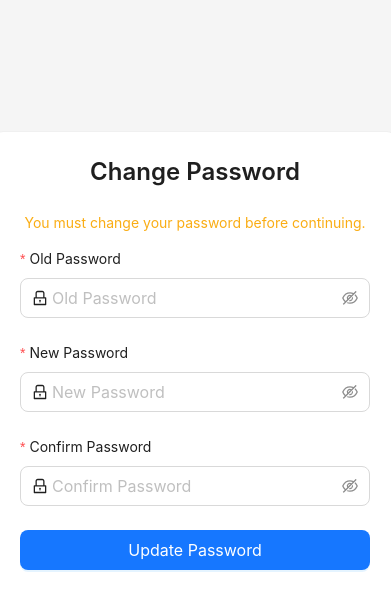
Test: ChangePasswordPage › shows translated error toast when API fails
In the password field with placeholder "Old Password": (195, 298) [52, 286, 338, 310], type "wrong"
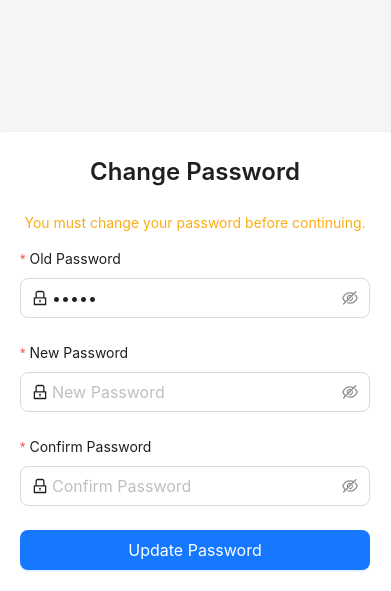
In the password field with placeholder "New Password": (195, 392) [52, 380, 338, 404], type "newpass1234"
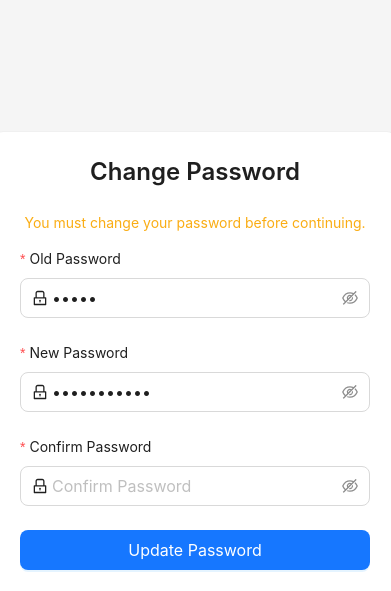
In the password field with placeholder "Confirm Password": (195, 486) [52, 474, 338, 498], type "newpass1234"
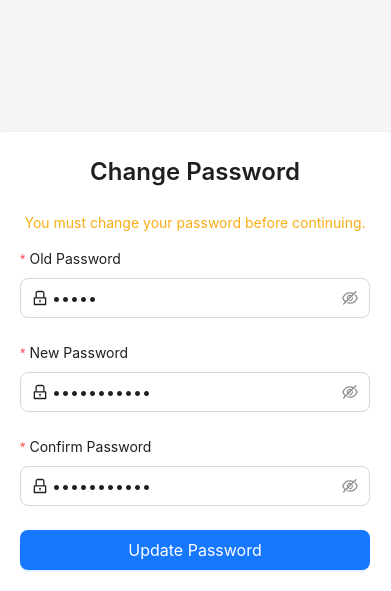
Click the button "Update Password": click(195, 550) [20, 530, 370, 570]
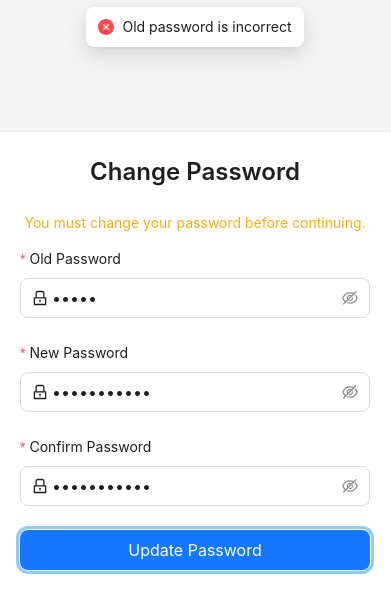
Expected: the text "Old password is incorrect" is shown, [122, 16, 292, 38]
